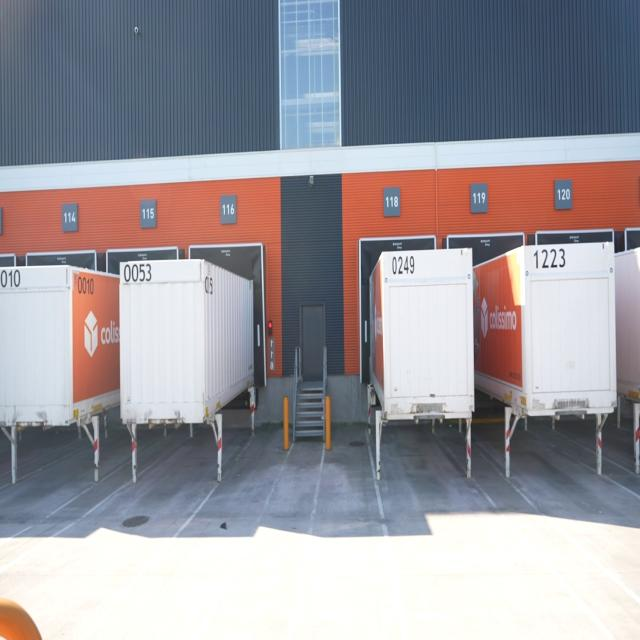Code: (530, 246, 566, 273), (122, 260, 156, 288), (388, 255, 416, 276), (75, 273, 95, 297)
